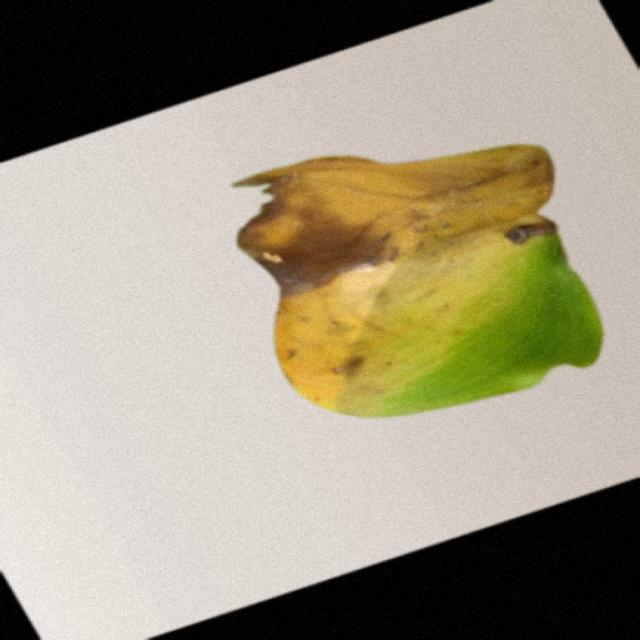daun berpenyakit kuning: (235, 145, 602, 416)
